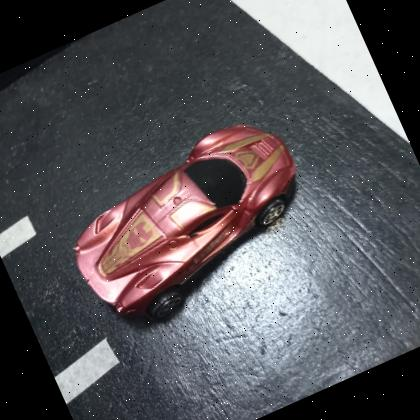Car: (49, 104, 334, 344)
